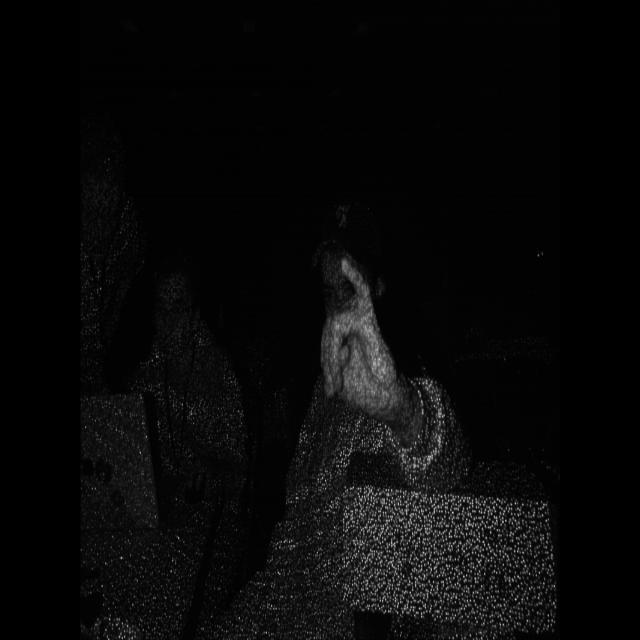D: (303, 236, 416, 444)
